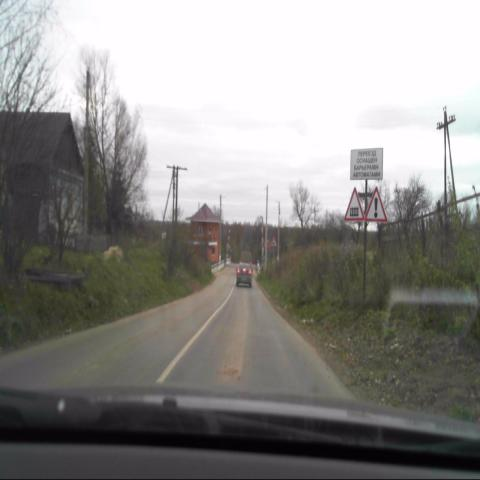1_1: (343, 187, 366, 221)
1_33: (366, 186, 386, 221)
